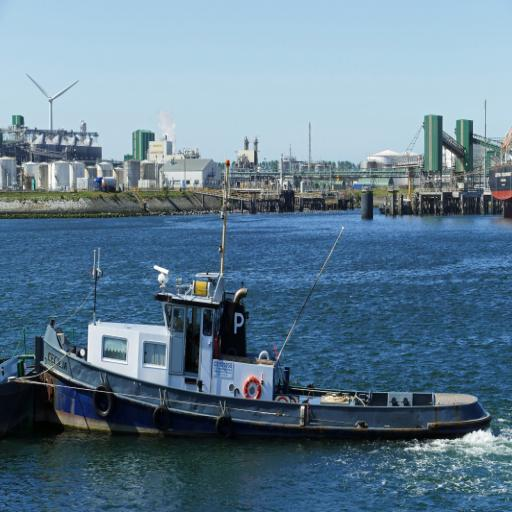tugboat: (35, 159, 496, 455)
